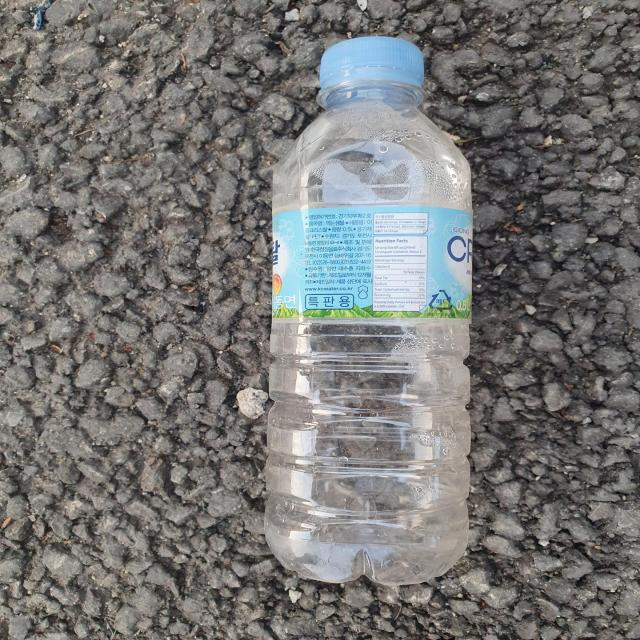plastic: (264, 36, 472, 586)
